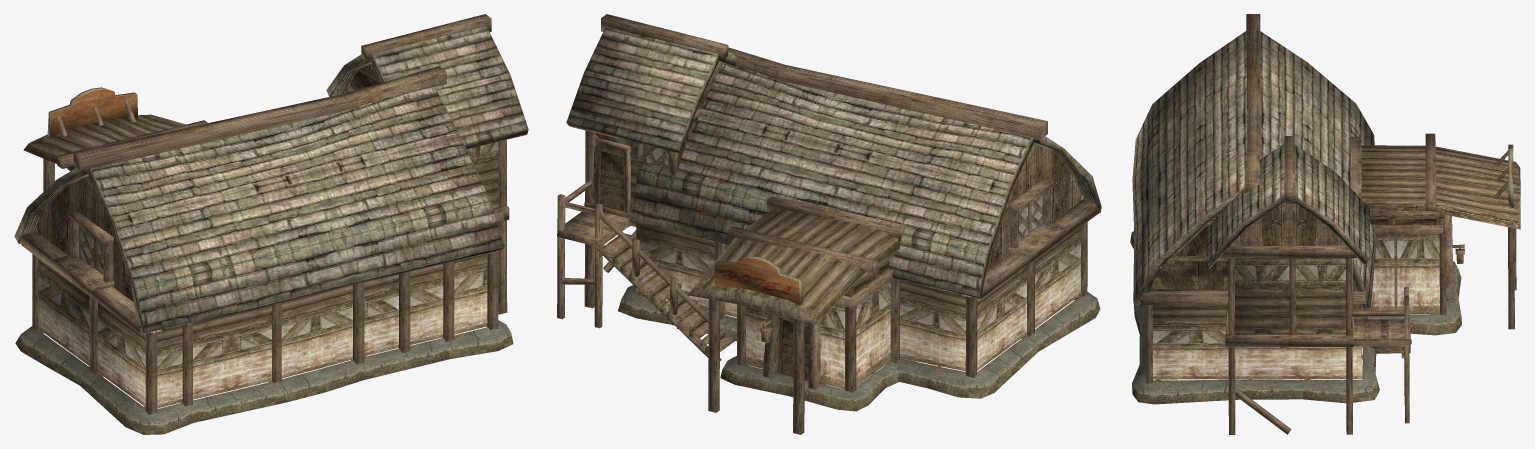
Rendered from S_Build_West086.FBX.
3 renders of one model, left to right at view 1: azimuth 30°, elevation 25°; view 2: azimuth 150°, elevation 25°; view 3: azimuth 270°, elevation 25°, orthographic. The views are drawn at different scales.
Parts seen in each view (by area): view 1: S_Build_West086; view 2: S_Build_West086; view 3: S_Build_West086.
Boxes of the visible parts, x1=… form: S_Build_West086: x1=14, y1=14, x2=528, y2=434; S_Build_West086: x1=557, y1=14, x2=1101, y2=434; S_Build_West086: x1=1130, y1=14, x2=1520, y2=434.
Size of the model in its own units: 1558 by 1302 by 920.
